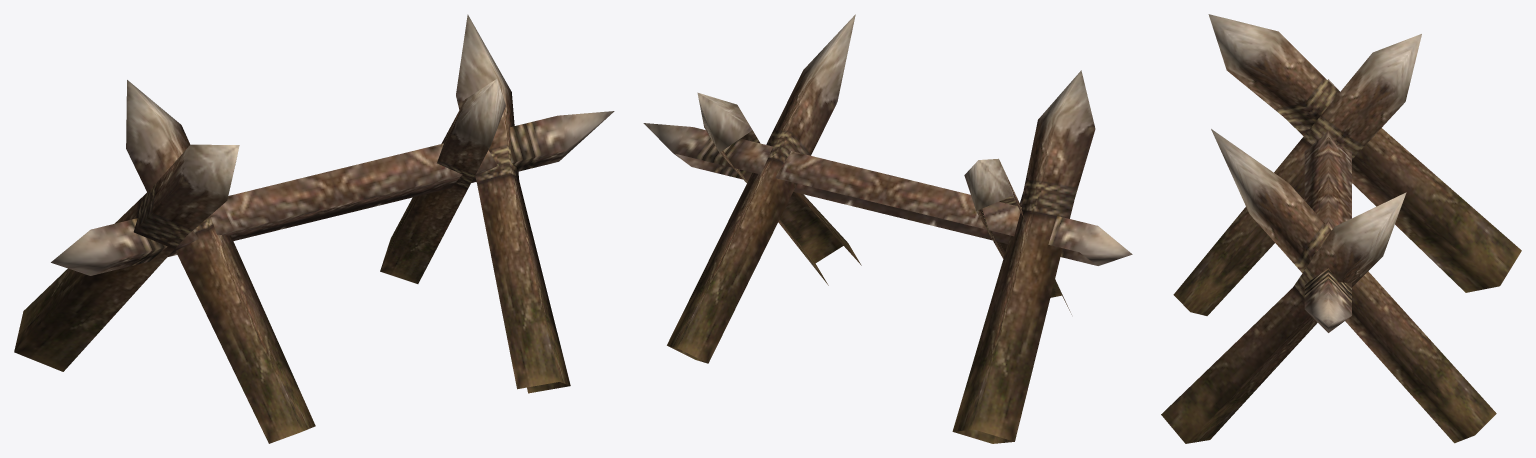
File: yw_yanmenguan_jianciweilan01.FBX
3 renders of one model, left to right at view 1: azimuth 30°, elevation 25°; view 2: azimuth 150°, elevation 25°; view 3: azimuth 270°, elevation 25°, orthographic. The views are drawn at different scales.
Visible parts, largest first — view 1: yw_yanmenguan_jianciweilan01; view 2: yw_yanmenguan_jianciweilan01; view 3: yw_yanmenguan_jianciweilan01.
Part boxes in pixels (<box>): yw_yanmenguan_jianciweilan01: <box>14,14,614,443</box>; yw_yanmenguan_jianciweilan01: <box>643,14,1132,443</box>; yw_yanmenguan_jianciweilan01: <box>1161,14,1521,443</box>.
Bounding box in the file's own units: 369 × 202 × 221.
